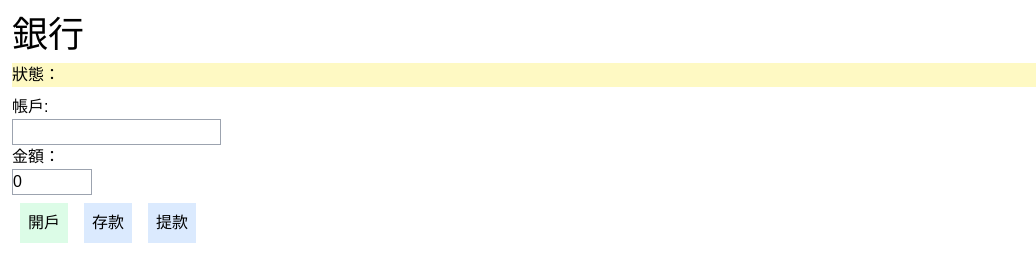
it: 執行開戶 › 輸入帳戶名稱，已經有帳戶，狀態欄位顯示用戶已經開戶過！
The image size is (1036, 260).
Type "小明" into the field with test id "input_account" at (116, 132), box [12,119,221,145]
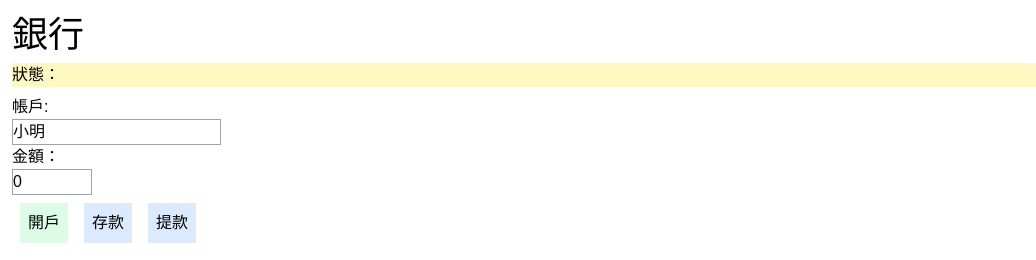
Click the button with test id "button_open-account" at (44, 223), box [20,203,68,243]
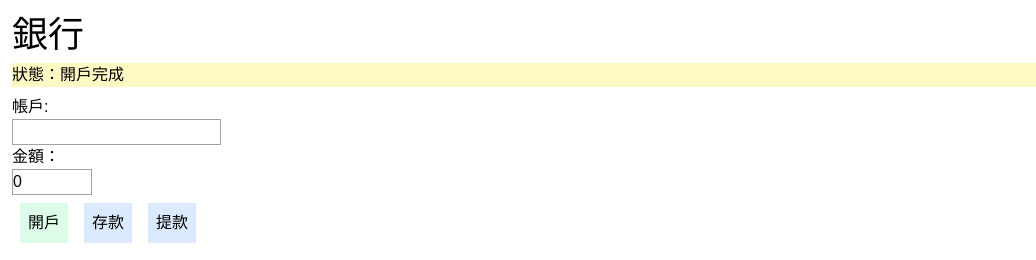
Type "小明" into the field with test id "input_account" at (116, 132), box [12,119,221,145]
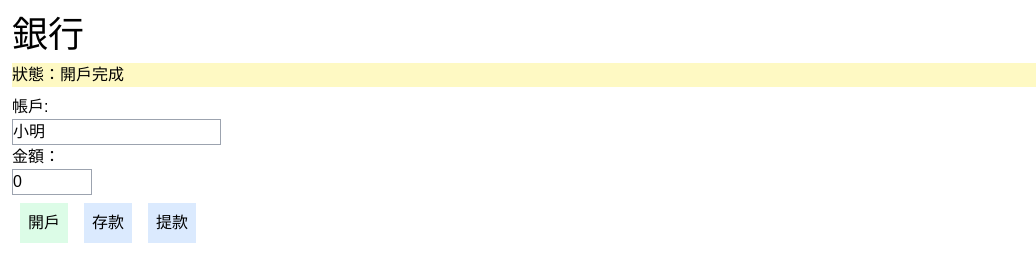
Click the button with test id "button_open-account" at (44, 223), box [20,203,68,243]
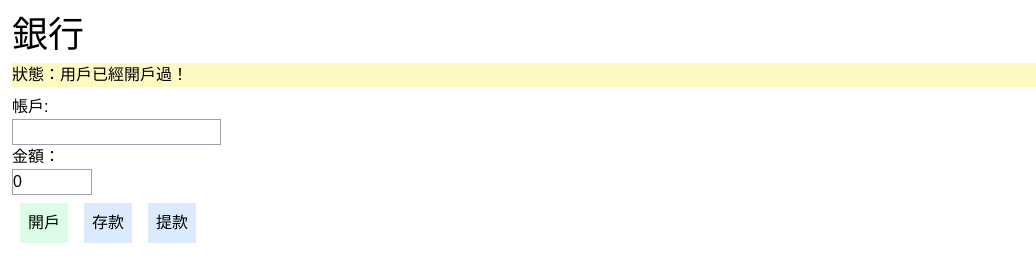
Now the text with test id "status" reads "用戶已經開戶過！", box [60,66,188,83]
